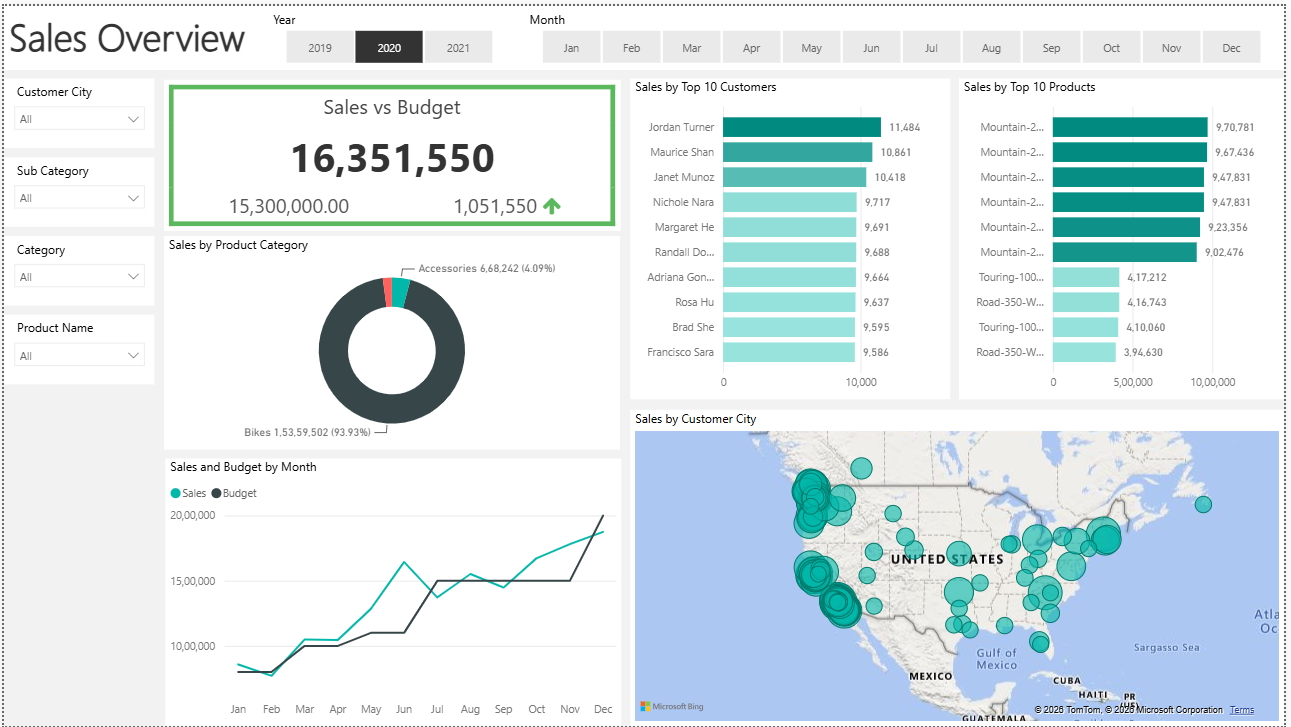

This screenshot's page, from the dashboard's own definition file:
{"tool":"powerbi","page":{"name":"Sales Overview","canvas":[1280,720],"ordinal":0},"visuals":[{"type":"textbox","box":[0,0,1280,64],"z":0},{"type":"slicer","fields":{"Values":["DIM_Calendar.Year"]},"box":[256,0,256,64],"z":1000},{"type":"slicer","fields":{"Values":["DIM_Calendar.MonthShort"]},"box":[512,0,768,64],"z":2000},{"type":"slicer","fields":{"Values":["DIM_Customers.Customer City"]},"box":[0,73,150.5,69.3],"z":3000},{"type":"slicer","fields":{"Values":["DIM_Products.Product Category"]},"box":[0,229.9,150.5,69.3],"z":4000},{"type":"slicer","fields":{"Values":["DIM_Products.Product Name"]},"box":[0,308.4,150.5,69.3],"z":5000},{"type":"slicer","fields":{"Values":["DIM_Products.Sub Category"]},"box":[0,151.4,150.5,69.3],"z":6000},{"type":"barChart","title":"Sales by Top 10 Products","fields":{"Category":["DIM_Products.Product Name"],"Y":["Analysis Metrics.Sales"]},"box":[955.2,73,324.8,321.1],"z":7000},{"type":"lineChart","fields":{"Category":["DIM_Calendar.MonthShort"],"Y":["Analysis Metrics.Sales","Analysis Metrics.Budget"]},"box":[160.7,452.8,456.3,267.2],"z":8000},{"type":"barChart","title":"Sales by Top 10 Customers","fields":{"Category":["DIM_Customers.Full Name"],"Y":["Analysis Metrics.Sales"]},"box":[625.9,73,320.2,321.1],"z":9000},{"type":"donutChart","fields":{"Series":["DIM_Products.Product Category"],"Y":["Analysis Metrics.Sales"]},"box":[160.6,229.9,456.2,213.5],"z":10000},{"type":"map","fields":{"Category":["DIM_Customers.Customer City"],"Size":["Analysis Metrics.Sales"]},"box":[625.9,403.3,654.1,316.6],"z":12000},{"type":"BBED0A4D4D8D44CE93CF2DAFADEE466C","fields":{"actual":["Analysis Metrics.Sales"],"target2":["Analysis Metrics.Sales / Budget"],"target1":["Analysis Metrics.Budget"]},"box":[160.5,73.4,456.6,151.3],"z":13001}]}

Visuals, with their boxes in screenshot pixels (x1, y1, x2, y2), scaled from the page's 1280x720 canvas onto the 1291x727 screenshot:
textbox: bbox=[0, 0, 1290, 65]
slicer - DIM_Calendar.Year: bbox=[258, 0, 516, 65]
slicer - DIM_Calendar.MonthShort: bbox=[516, 0, 1290, 65]
slicer - DIM_Customers.Customer City: bbox=[0, 74, 152, 144]
slicer - DIM_Products.Product Category: bbox=[0, 232, 152, 302]
slicer - DIM_Products.Product Name: bbox=[0, 311, 152, 381]
slicer - DIM_Products.Sub Category: bbox=[0, 153, 152, 223]
"Sales by Top 10 Products" barChart: bbox=[963, 74, 1290, 398]
lineChart - DIM_Calendar.MonthShort x Analysis Metrics.Sales: bbox=[162, 457, 622, 726]
"Sales by Top 10 Customers" barChart: bbox=[631, 74, 954, 398]
donutChart - DIM_Products.Product Category x Analysis Metrics.Sales: bbox=[162, 232, 622, 448]
map - DIM_Customers.Customer City x Analysis Metrics.Sales: bbox=[631, 407, 1290, 726]
BBED0A4D4D8D44CE93CF2DAFADEE466C - Analysis Metrics.Sales x Analysis Metrics.Sales / Budget: bbox=[162, 74, 622, 227]
